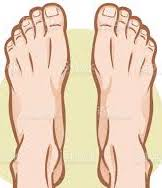Feet: (3, 2, 72, 186), (89, 2, 156, 187)
